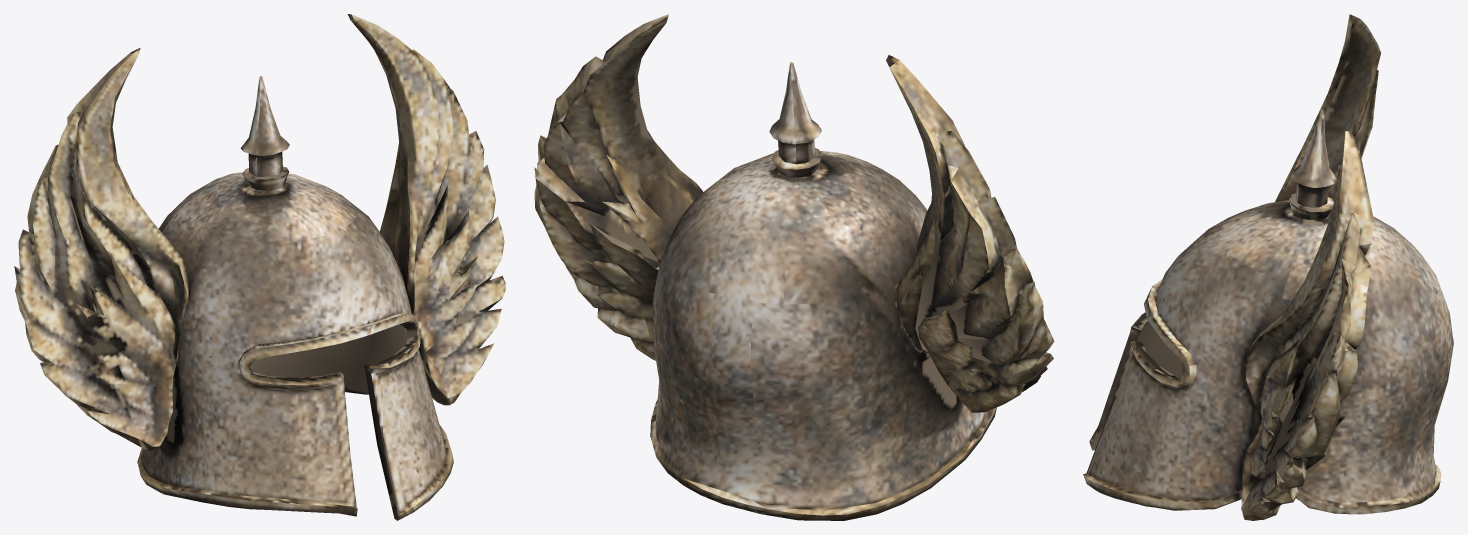
Rendered from item_6helm3.glb.
3 renders of one model, left to right at view 1: azimuth 30°, elevation 25°; view 2: azimuth 150°, elevation 25°; view 3: azimuth 270°, elevation 25°, orthographic. The views are drawn at different scales.
Visible parts, largest first — view 1: equipment_6helm3; view 2: equipment_6helm3; view 3: equipment_6helm3.
Part boxes in pixels (x1,y1,x2,y2): equipment_6helm3: [14, 14, 505, 520]; equipment_6helm3: [534, 14, 1054, 520]; equipment_6helm3: [1083, 14, 1453, 520].
Bounding box in the file's own units: 1 × 0.8703 × 0.6859.
1 material, 1 textured.
